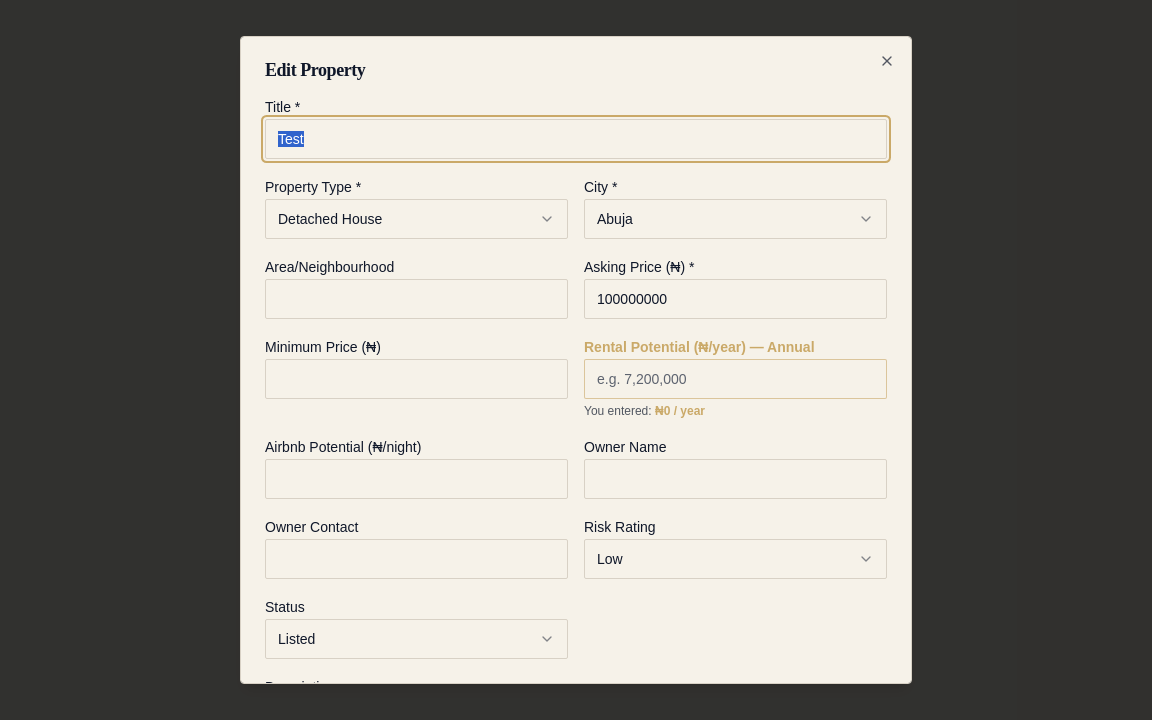
Test case: PropertyForm yearly rent round-trip › blocks save and shows an error when yearly rent looks monthly (yield > 25%)
Type "30000000" into the number field labelled "Rental Potential (₦/year) — Annual".
click(736, 379); type("30000000")  # box [584, 359, 887, 399]
(page scrolled)
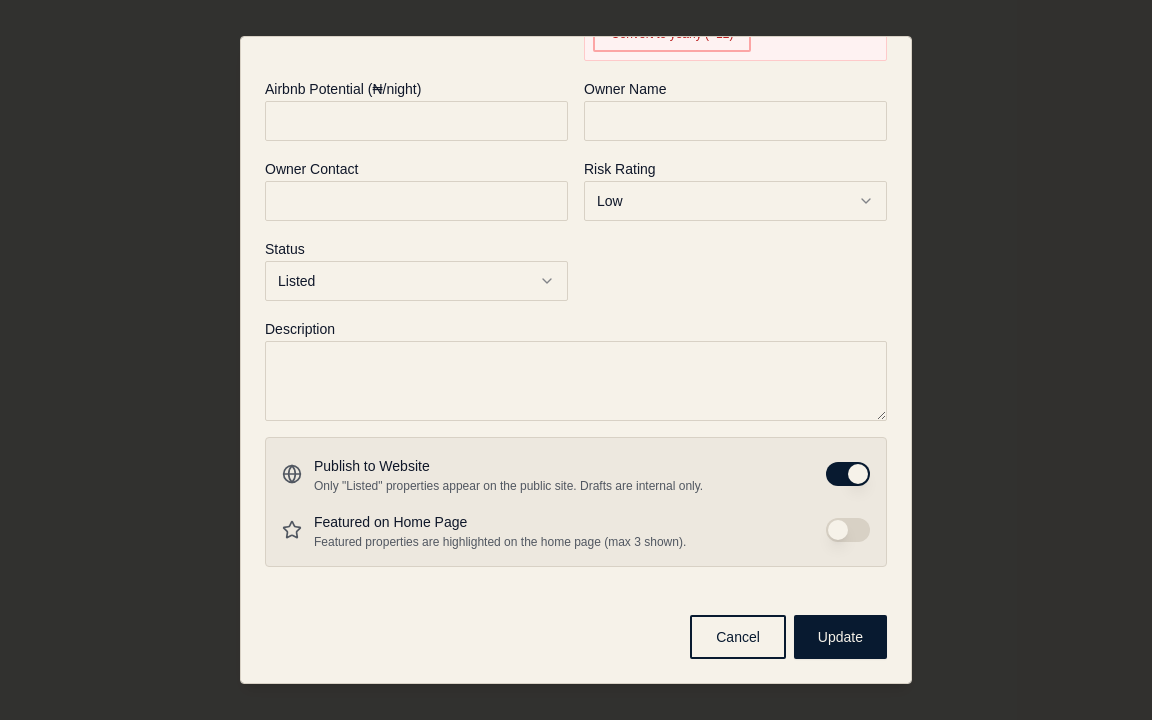
Click the button "Update".
click(840, 637)  # box [794, 615, 887, 659]
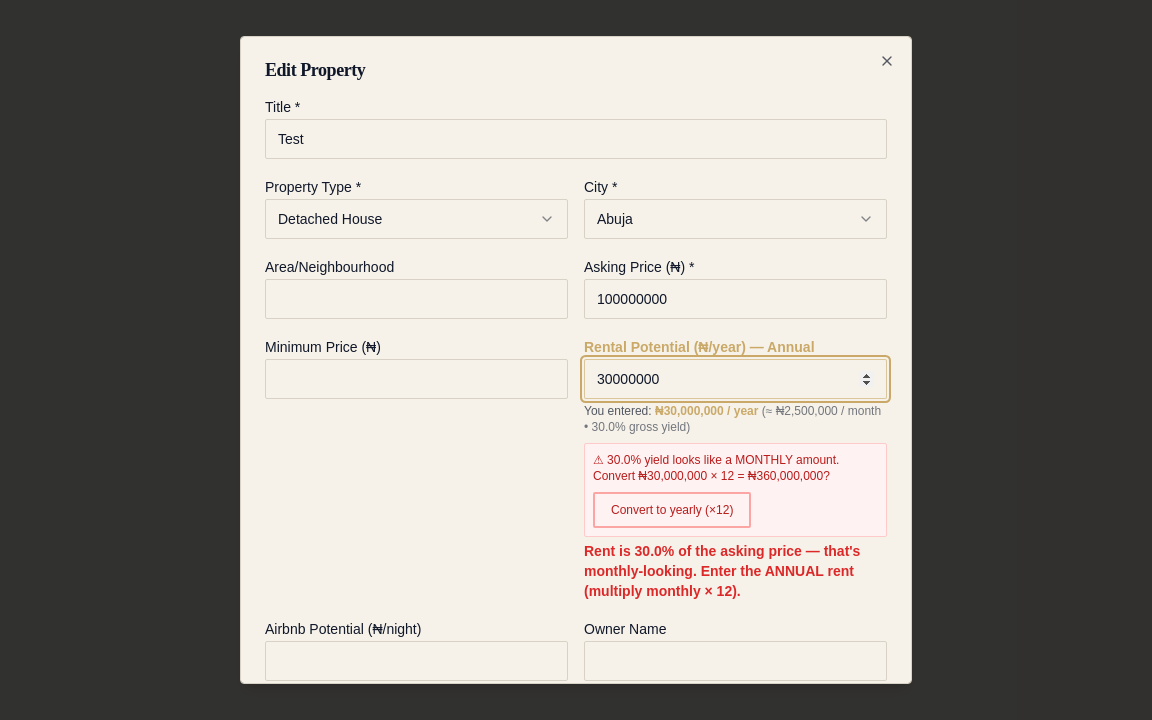
Expected: the message shows "ANNUAL rent", [584, 543, 860, 599]
